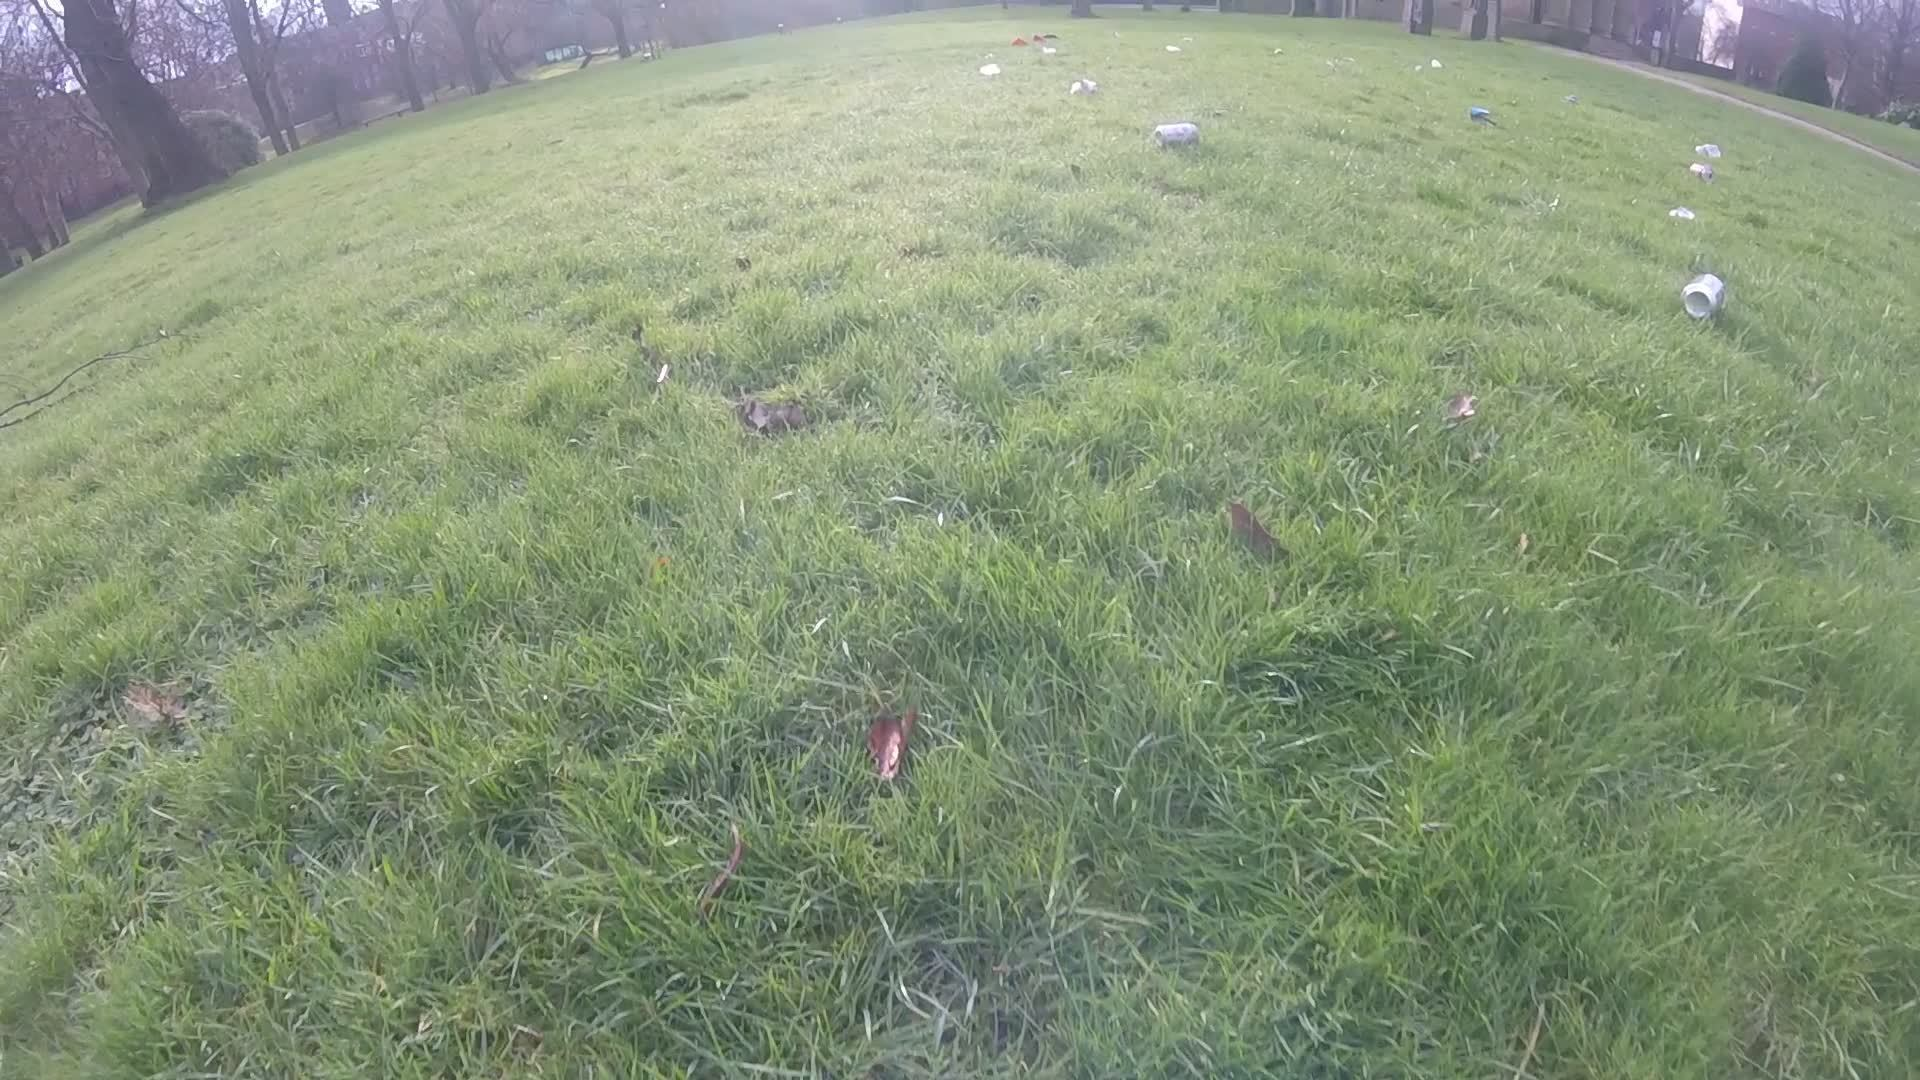litter: (1680, 268, 1724, 326), (1150, 121, 1197, 144), (1462, 109, 1501, 129), (1687, 162, 1716, 186), (1692, 142, 1724, 160), (1065, 78, 1096, 95), (1667, 206, 1696, 222), (1036, 44, 1062, 59), (977, 63, 1002, 76), (1160, 42, 1182, 55), (1561, 94, 1582, 105), (1009, 36, 1031, 45), (1033, 32, 1058, 40), (1410, 63, 1425, 73), (1428, 61, 1443, 70)
